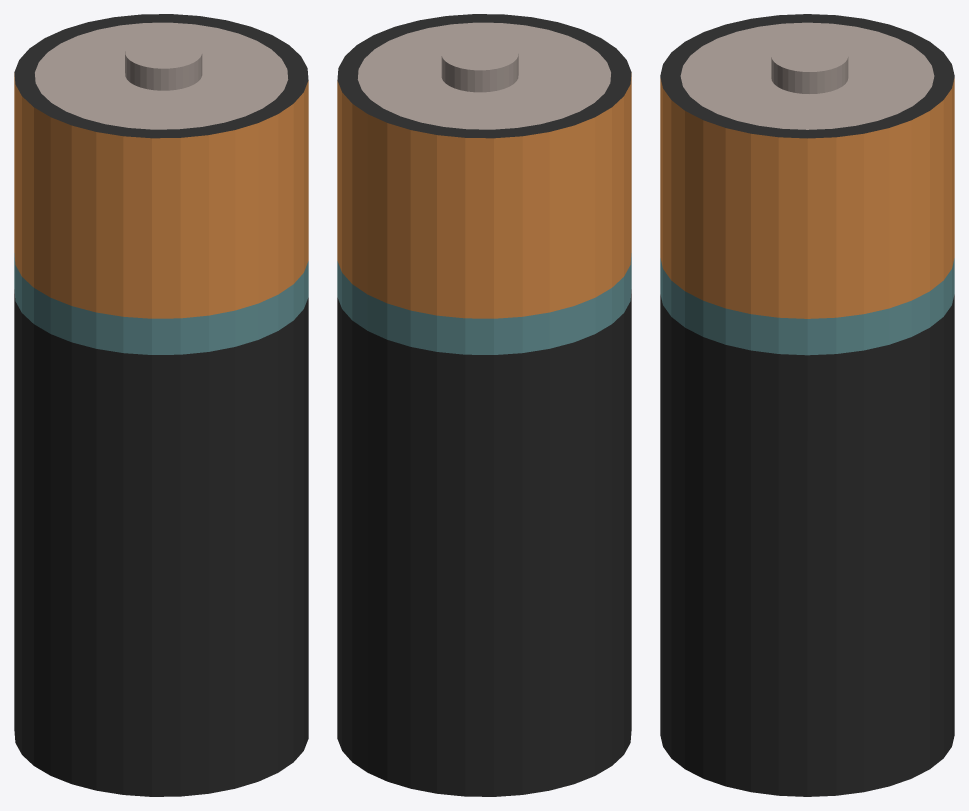
The model's file is Battery.fbx.
3 renders of one model, left to right at view 1: azimuth 30°, elevation 25°; view 2: azimuth 150°, elevation 25°; view 3: azimuth 270°, elevation 25°, orthographic.
Visible parts, largest first — view 1: Cylinder; view 2: Cylinder; view 3: Cylinder.
Part boxes in pixels (x1=…): Cylinder: x1=14, y1=14, x2=308, y2=796; Cylinder: x1=337, y1=14, x2=631, y2=796; Cylinder: x1=660, y1=14, x2=954, y2=796.
Size of the model in its own units: 200 by 510 by 200.
